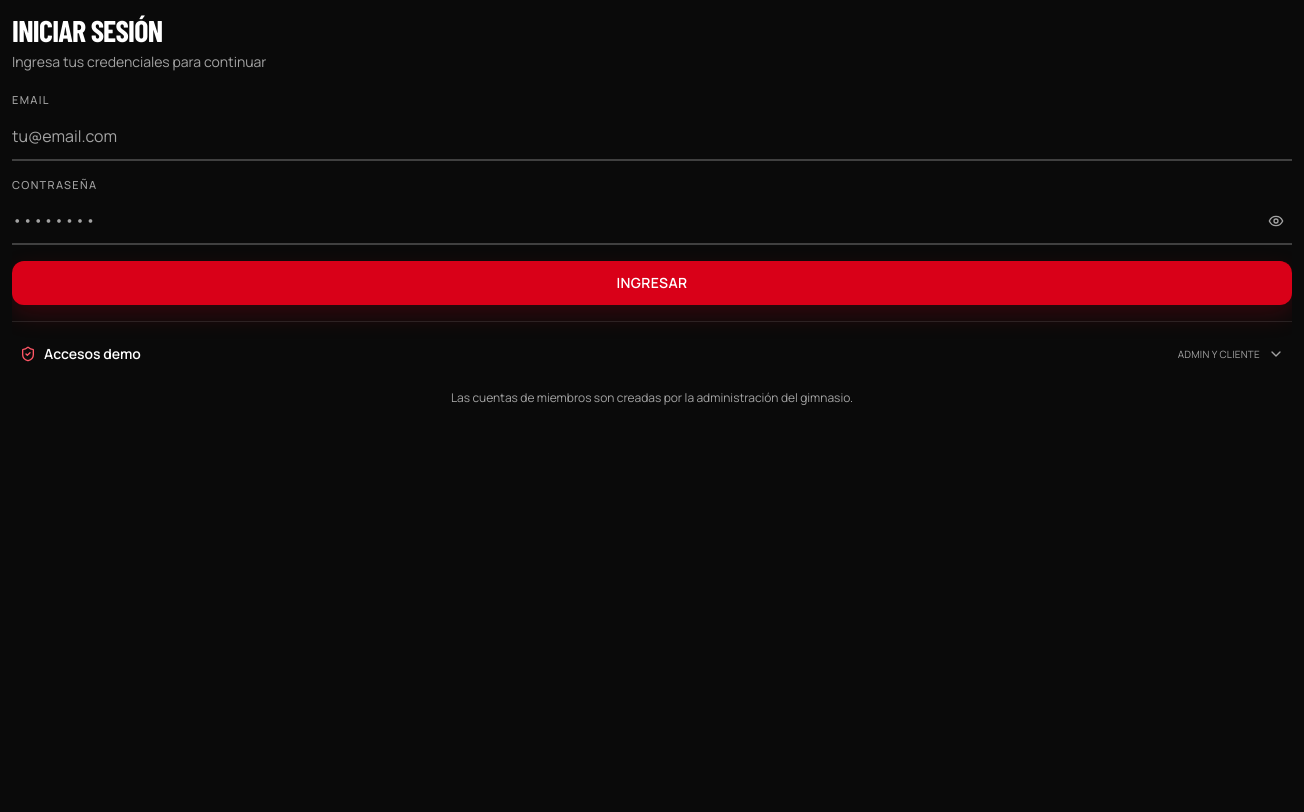
LoginPage › permite usar el formulario cuando el navegador rechaza copiar
Click the button "Accesos demo Admin y cliente": (92, 354) [12,334,1292,374]
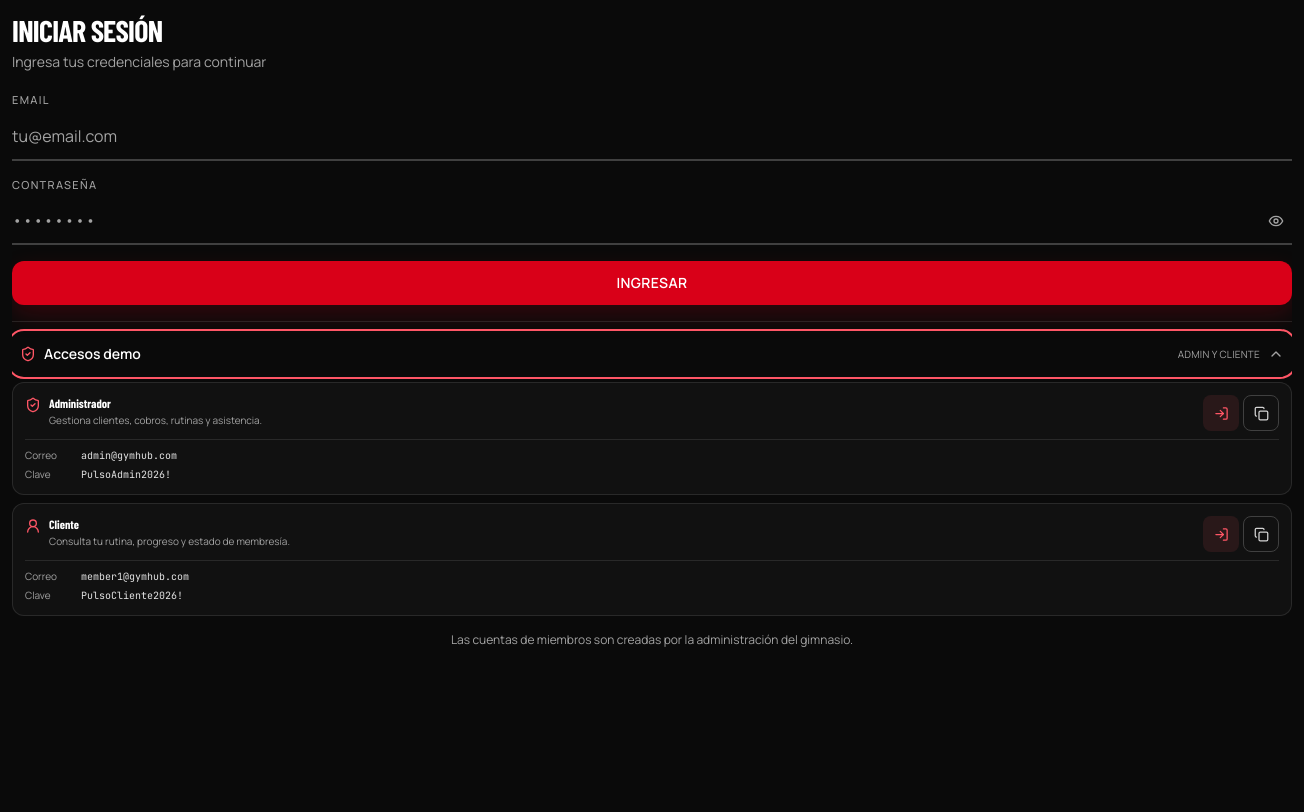
Click the button named "Copiar credenciales de administrador": (1261, 413) [1243,395,1279,431]
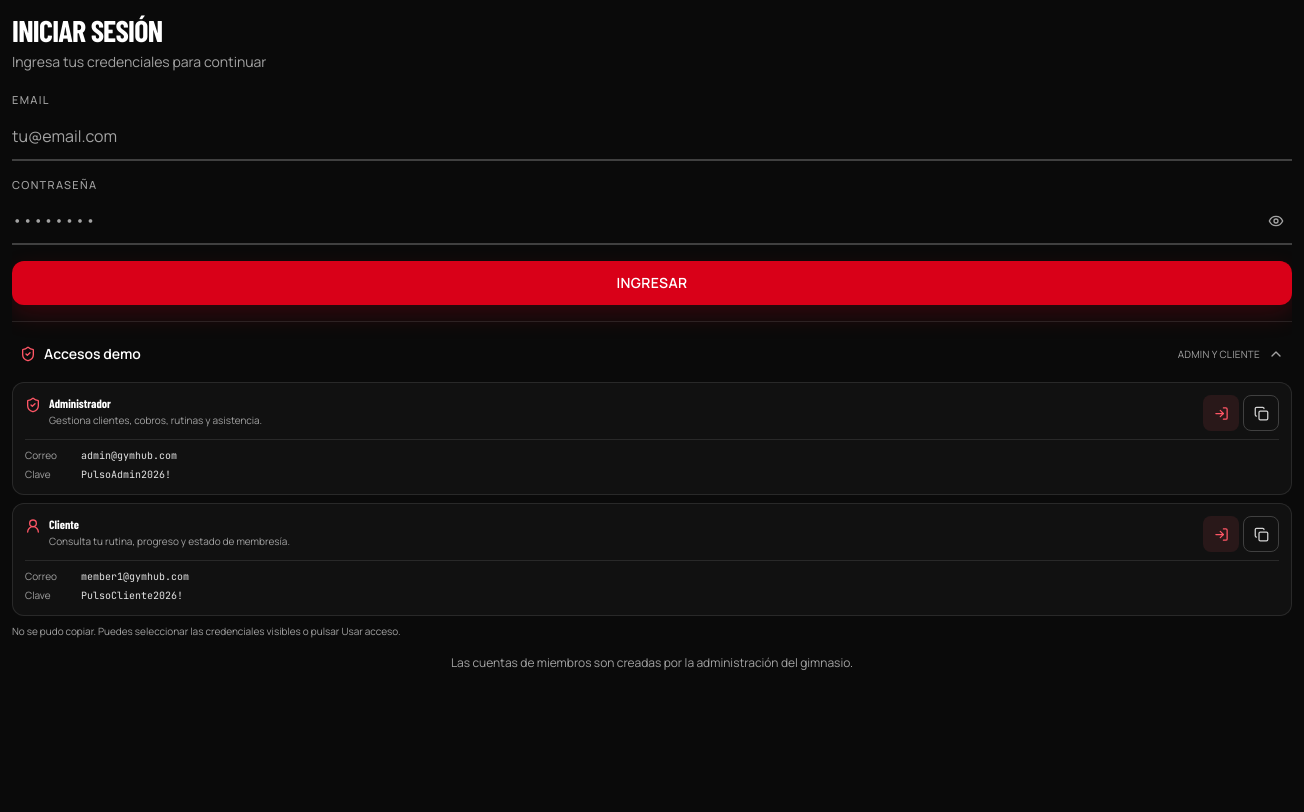
Expected: the message shows "No se pudo copiar.", [12,624,400,638]
Click the button named "Usar acceso de administrador": (1221, 413) [1203,395,1239,431]
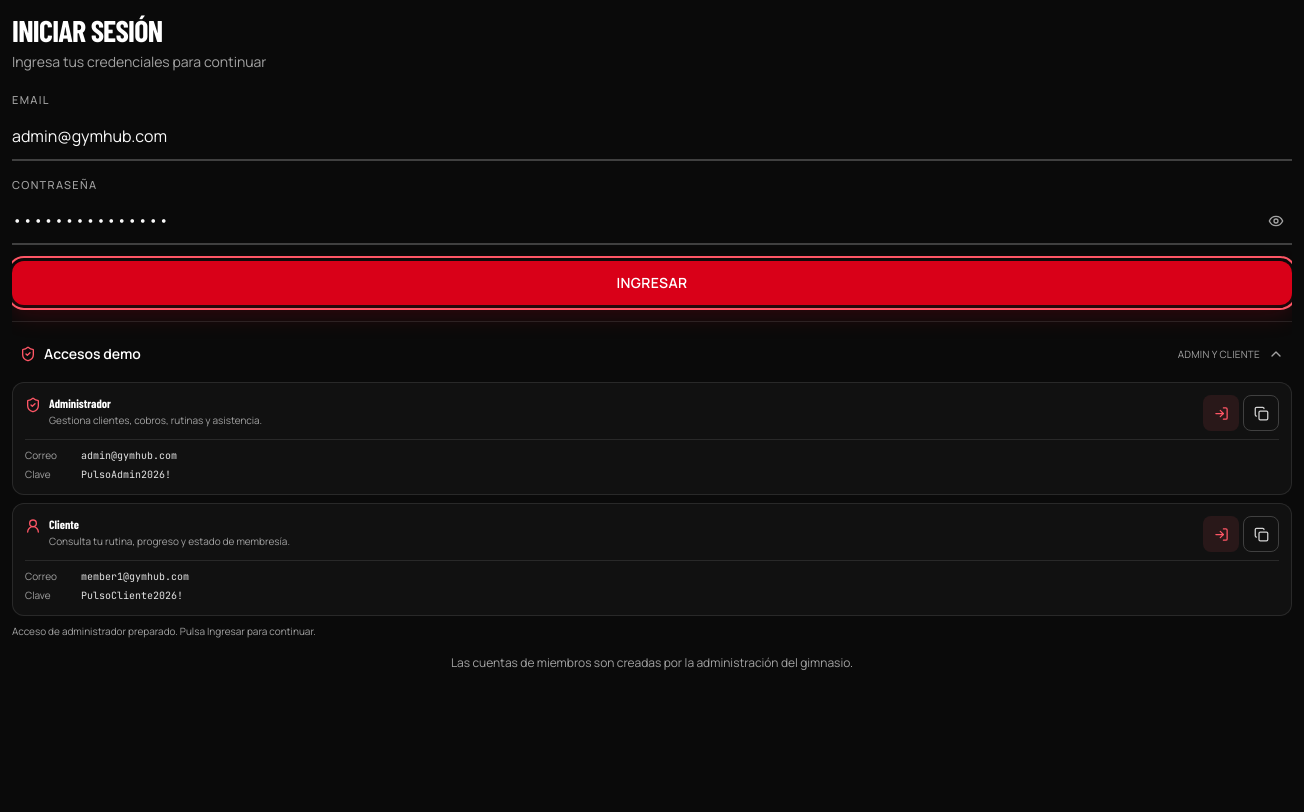
Expected: the field with test id "email-input" holds "admin@gymhub.com", [12,112,1292,160]
